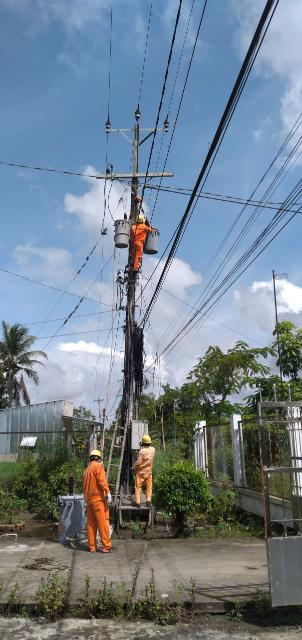gloves: (105, 493, 114, 506), (145, 219, 153, 228)
helmet: (88, 449, 106, 462), (138, 433, 156, 445), (135, 214, 146, 224)
shoes: (102, 544, 124, 555), (87, 540, 100, 558), (130, 501, 143, 510), (146, 500, 156, 508)
